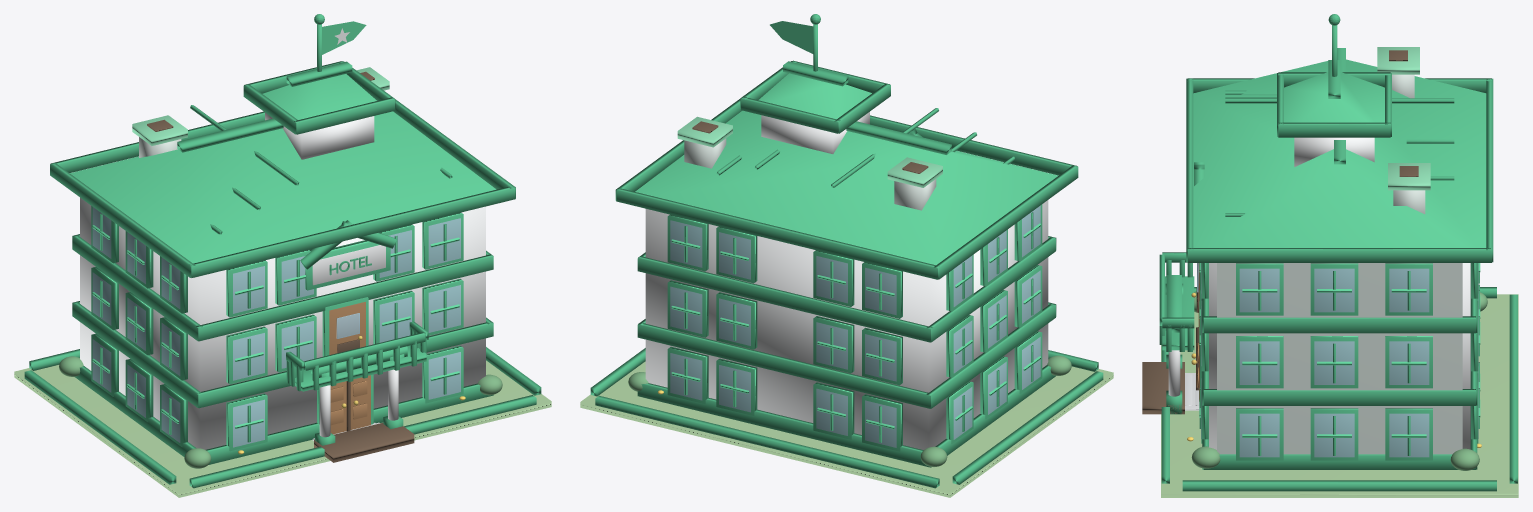
Rendered from hotel_detallado_green.glb.
3 renders of one model, left to right at view 1: azimuth 30°, elevation 25°; view 2: azimuth 150°, elevation 25°; view 3: azimuth 270°, elevation 25°, orthographic. The views are drawn at different scales.
Visible parts, largest first — view 1: Hotel_Techo_Principal, Hotel_Cuerpo_Principal, Hotel_Grama_Base, Hotel_Techo_Principal_Fascia_Frontal, Hotel_Zocalo_Frontal_Nivel_3, Hotel_Torre_Central_Techo, Hotel_Zocalo_Frontal_Nivel_1, Hotel_Zocalo_Frontal_Nivel_2, Hotel_Techo_Principal_Fascia_Izquierda, Hotel_Torre_Central_Pared, Hotel_Entrada_Escalon, Hotel_Zocalo_Izquierdo_Nivel_3 (+57 smaller); view 2: Hotel_Techo_Principal, Hotel_Cuerpo_Principal, Hotel_Grama_Base, Hotel_Zocalo_Trasero_Nivel_3, Hotel_Zocalo_Trasero_Nivel_2, Hotel_Techo_Principal_Fascia_Trasera, Hotel_Borde_Base_Trasero, Hotel_Zocalo_Trasero_Nivel_1, Hotel_Torre_Central_Techo, Hotel_Techo_Principal_Fascia_Izquierda, Hotel_Techo_Principal_Fascia_Frontal, Hotel_Zocalo_Izquierdo_Nivel_3 (+54 smaller); view 3: Hotel_Techo_Principal, Hotel_Pared_Lateral_Azulada, Hotel_Grama_Base, Hotel_Zocalo_Derecho_Nivel_3, Hotel_Techo_Principal_Fascia_Derecha, Hotel_Zocalo_Derecho_Nivel_2, Hotel_Torre_Central_Techo, Hotel_Borde_Base_Lateral_Derecho, Hotel_Zocalo_Derecho_Nivel_1, Hotel_Cuerpo_Principal, Hotel_Torre_Central_Techo_Fascia_Derecha, Hotel_Borde_Base_Trasero (+38 smaller).
Boxes of the visible parts, x1,y1,x2,y2 form: Hotel_Techo_Principal: (70,111,496,263); Hotel_Cuerpo_Principal: (80,197,485,449); Hotel_Grama_Base: (14,360,551,497); Hotel_Techo_Principal_Fascia_Frontal: (189,187,515,277); Hotel_Zocalo_Frontal_Nivel_3: (196,254,493,341); Hotel_Torre_Central_Techo: (262,74,376,119); Hotel_Zocalo_Frontal_Nivel_1: (206,383,493,464); Hotel_Zocalo_Frontal_Nivel_2: (197,321,493,408); Hotel_Techo_Principal_Fascia_Izquierda: (50,163,195,277); Hotel_Torre_Central_Pared: (265,112,374,159); Hotel_Entrada_Escalon: (314,423,414,462); Hotel_Zocalo_Izquierdo_Nivel_3: (72,235,202,340); Hotel_Techo_Principal: (635,110,1058,265); Hotel_Cuerpo_Principal: (645,200,1048,449); Hotel_Grama_Base: (580,361,1113,497); Hotel_Zocalo_Trasero_Nivel_3: (637,256,932,342); Hotel_Zocalo_Trasero_Nivel_2: (637,323,930,408); Hotel_Techo_Principal_Fascia_Trasera: (616,188,937,279); Hotel_Borde_Base_Trasero: (595,395,939,488); Hotel_Zocalo_Trasero_Nivel_1: (637,383,930,467); Hotel_Torre_Central_Techo: (758,73,871,119); Hotel_Techo_Principal_Fascia_Izquierda: (934,165,1078,279); Hotel_Techo_Principal_Fascia_Frontal: (870,115,1077,175); Hotel_Zocalo_Izquierdo_Nivel_3: (927,237,1055,342); Hotel_Techo_Principal: (1193,59,1486,247); Hotel_Pared_Lateral_Azulada: (1217,263,1462,454); Hotel_Grama_Base: (1161,294,1518,497); Hotel_Zocalo_Derecho_Nivel_3: (1203,316,1475,333); Hotel_Techo_Principal_Fascia_Derecha: (1187,248,1491,262); Hotel_Zocalo_Derecho_Nivel_2: (1203,389,1475,405); Hotel_Torre_Central_Techo: (1284,72,1384,122); Hotel_Borde_Base_Lateral_Derecho: (1182,480,1496,491); Hotel_Zocalo_Derecho_Nivel_1: (1203,454,1475,469); Hotel_Cuerpo_Principal: (1209,263,1470,449); Hotel_Torre_Central_Techo_Fascia_Derecha: (1278,122,1390,137); Hotel_Borde_Base_Trasero: (1509,294,1517,483).
Bounding box in the file's own units: 1.75 × 1.67 × 1.41.
